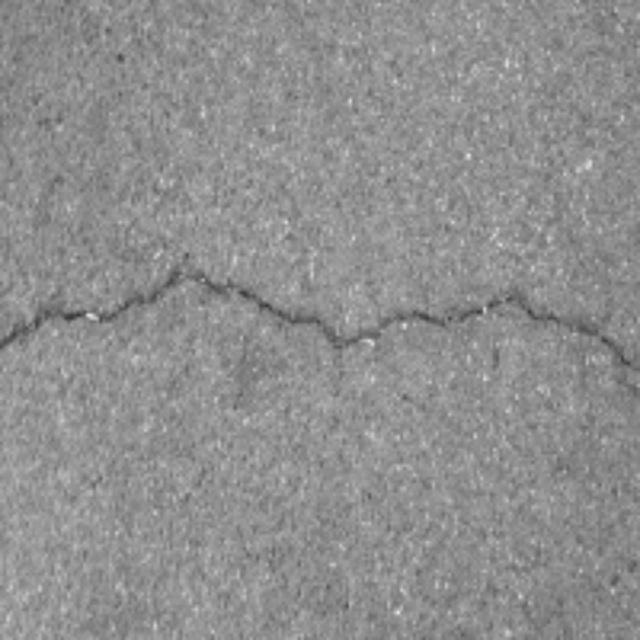Crack: (0, 194, 640, 460)
